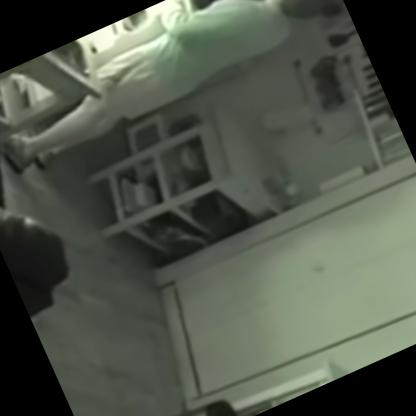Human Body: (0, 0, 359, 188)
